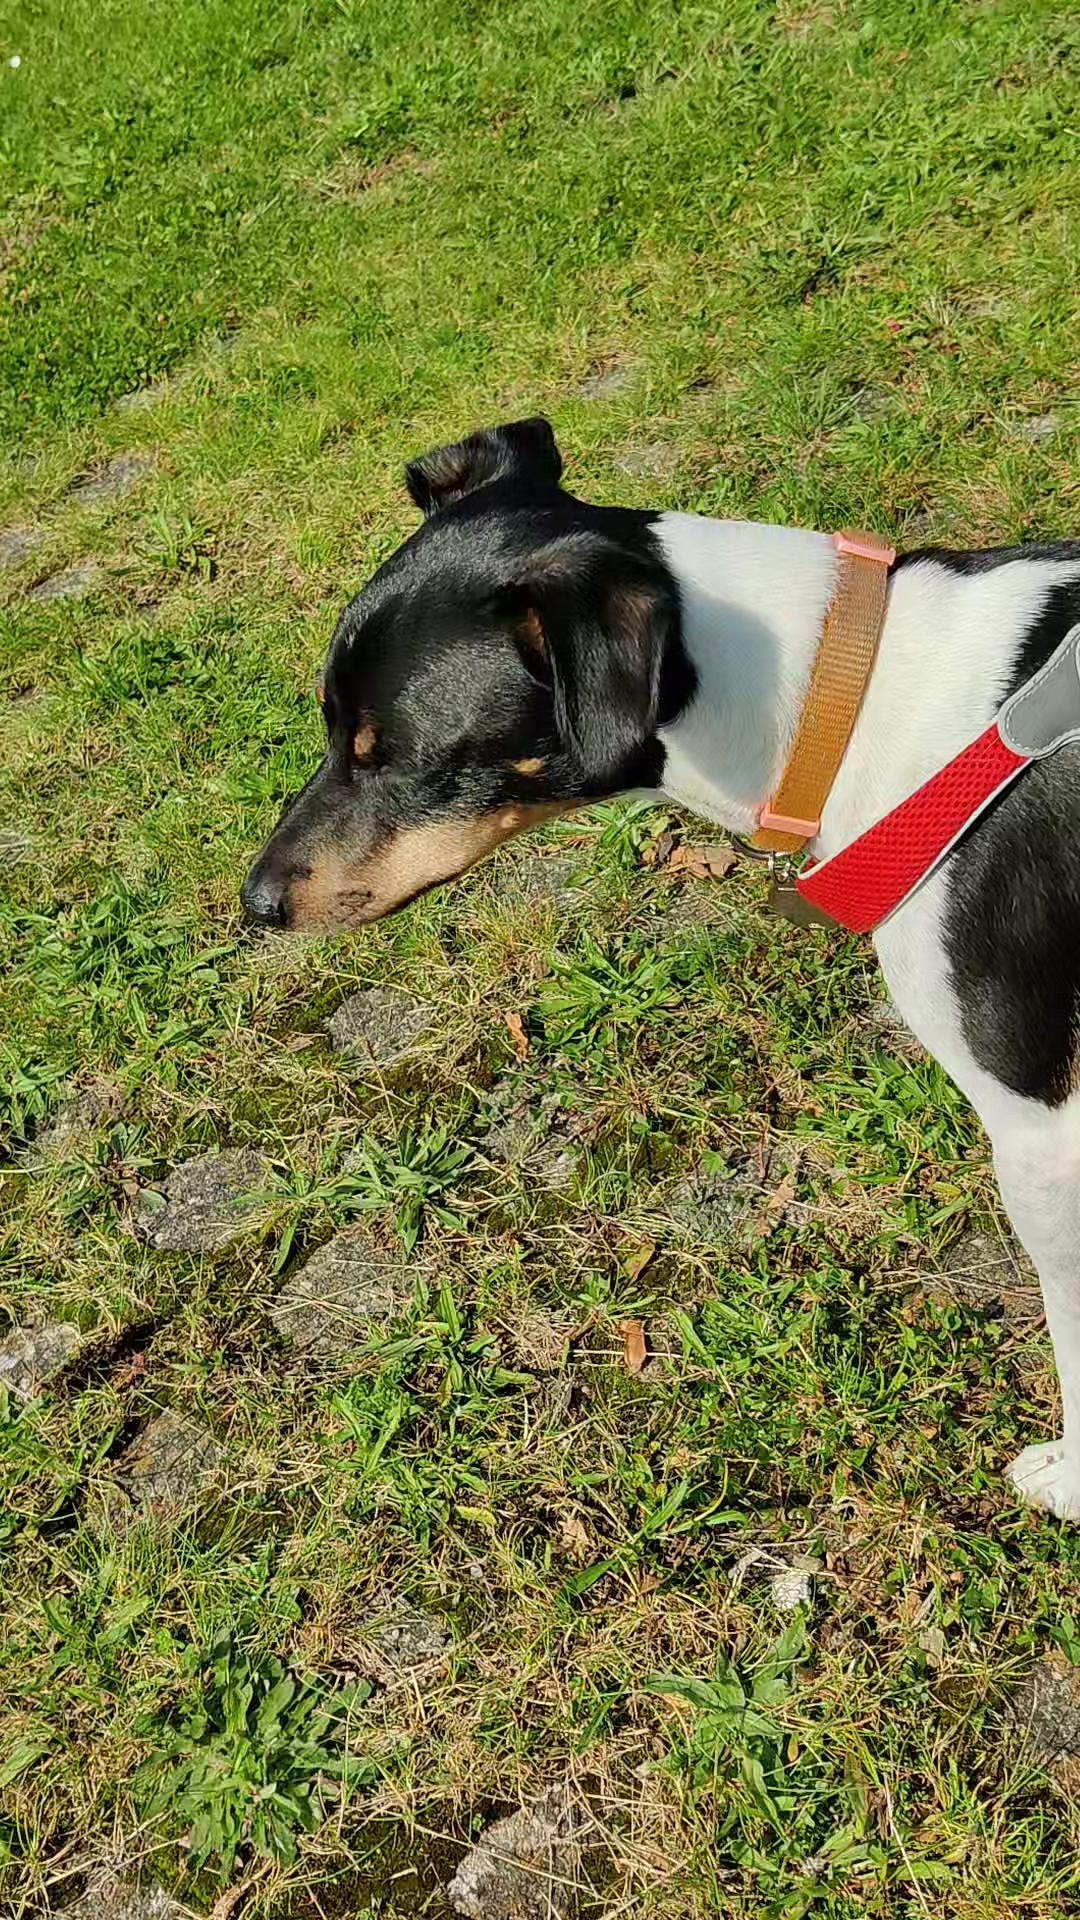Dog: (211, 393, 1079, 1540)
